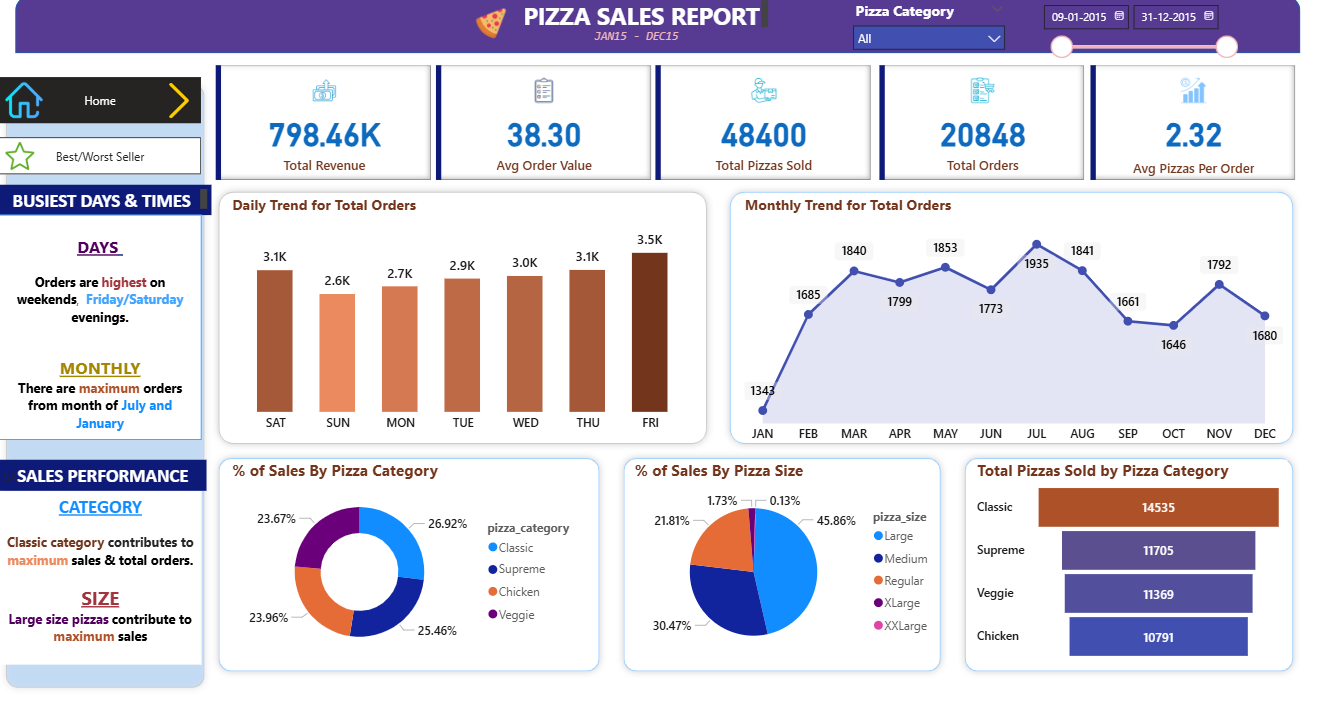

This screenshot's page, from the dashboard's own definition file:
{"tool":"powerbi","page":{"name":"Home","canvas":[1500,820],"ordinal":0},"visuals":[{"type":"shape","box":[0,92.1,240.8,699.9],"z":0},{"type":"textbox","box":[0,525.6,235.2,35.4],"z":1000},{"type":"cardVisual","fields":{"Data":["pizza_sales.Total Revenue","pizza_sales.Avg Order Value","pizza_sales.Total Pizzas Sold"]},"box":[240.8,73.7,752.3,140.3],"z":2000},{"type":"cardVisual","fields":{"Data":["pizza_sales.Total Orders","pizza_sales.Avg Pizzas Per Order"]},"box":[993.1,73.7,481.7,140.3],"z":3000},{"type":"shape","box":[18.4,0,1456.4,65.2],"z":4000},{"type":"textbox","box":[589.4,0,287.6,42.5],"z":5000},{"type":"textbox","box":[667.3,31.2,110.5,34],"z":6000},{"type":"image","box":[525.6,8.5,63.8,45.3],"z":7000},{"type":"shape","box":[820.3,213.9,654.5,301.8],"z":8000},{"type":"areaChart","title":"Monthly  Trend for Total Orders","fields":{"Category":["pizza_sales.Order Month"],"Y":["pizza_sales.Total Orders"]},"box":[840.1,225.3,620.5,290.4],"z":9000},{"type":"shape","box":[240.8,515.7,447.7,257.8],"z":10000},{"type":"shape","box":[699.9,515.7,375.4,257.8],"z":11000},{"type":"shape","box":[1086.6,515.7,388.2,257.8],"z":12000},{"type":"donutChart","title":"% of Sales By Pizza Category","fields":{"Category":["pizza_sales.pizza_category"],"Y":["pizza_sales.Total Revenue"]},"box":[259.3,525.6,408,232.3],"z":13000},{"type":"shape","box":[240.8,213.9,569.5,301.8],"z":14000},{"type":"columnChart","title":"Daily Trend for Total Orders","fields":{"Category":["pizza_sales.Order Day"],"Y":["pizza_sales.Total Orders"]},"box":[259.3,225.3,534.1,277.7],"z":15000},{"type":"pieChart","title":"% of Sales By Pizza Size","fields":{"Category":["pizza_sales.pizza_size"],"Y":["pizza_sales.Total Revenue"]},"box":[715.4,525.6,359.8,232.3],"z":16000},{"type":"funnel","title":"Total Pizzas Sold by Pizza Category","fields":{"Y":["pizza_sales.Total Pizzas Sold"],"Category":["pizza_sales.pizza_category"]},"box":[1103.6,525.6,357,232.3],"z":17000},{"type":"textbox","box":[0,213.9,240.8,34],"z":18000},{"type":"textbox","box":[0,247.9,229.5,255],"z":19000},{"type":"textbox","box":[0,561,229.5,196.9],"z":20000},{"type":"slicer","fields":{"Values":["pizza_sales.pizza_category"]},"box":[957.7,0,192.7,65.2],"z":21000},{"type":"slicer","fields":{"Values":["pizza_sales.order_date"]},"box":[1171.6,0,240.8,73.7],"z":22000},{"type":"pageNavigator","box":[0,160.1,229.5,42.5],"z":22001},{"type":"pageNavigator","box":[0,92.1,229.5,52.4],"z":22002},{"type":"image","box":[178.5,92.1,51,52.4],"z":22003},{"type":"image","box":[0,160.1,46.8,42.5],"z":22004},{"type":"image","box":[0,92.1,56.7,52.4],"z":22005}]}

Visuals, with their boxes in screenshot pixels (x1, y1, x2, y2), scaled from the page's 1500x820 canvas onto the 1318x716 screenshot:
shape: BBox(0, 80, 212, 692)
textbox: BBox(0, 459, 207, 490)
cardVisual - pizza_sales.Total Revenue x pizza_sales.Avg Order Value: BBox(212, 64, 873, 187)
cardVisual - pizza_sales.Total Orders x pizza_sales.Avg Pizzas Per Order: BBox(873, 64, 1296, 187)
shape: BBox(16, 0, 1296, 57)
textbox: BBox(518, 0, 771, 37)
textbox: BBox(586, 27, 683, 57)
image: BBox(462, 7, 518, 47)
shape: BBox(721, 187, 1296, 450)
"Monthly  Trend for Total Orders" areaChart: BBox(738, 197, 1283, 450)
shape: BBox(212, 450, 605, 675)
shape: BBox(615, 450, 945, 675)
shape: BBox(955, 450, 1296, 675)
"% of Sales By Pizza Category" donutChart: BBox(228, 459, 586, 662)
shape: BBox(212, 187, 712, 450)
"Daily Trend for Total Orders" columnChart: BBox(228, 197, 697, 439)
"% of Sales By Pizza Size" pieChart: BBox(629, 459, 945, 662)
"Total Pizzas Sold by Pizza Category" funnel: BBox(970, 459, 1283, 662)
textbox: BBox(0, 187, 212, 216)
textbox: BBox(0, 216, 202, 439)
textbox: BBox(0, 490, 202, 662)
slicer - pizza_sales.pizza_category: BBox(841, 0, 1011, 57)
slicer - pizza_sales.order_date: BBox(1029, 0, 1241, 64)
pageNavigator: BBox(0, 140, 202, 177)
pageNavigator: BBox(0, 80, 202, 126)
image: BBox(157, 80, 202, 126)
image: BBox(0, 140, 41, 177)
image: BBox(0, 80, 50, 126)
